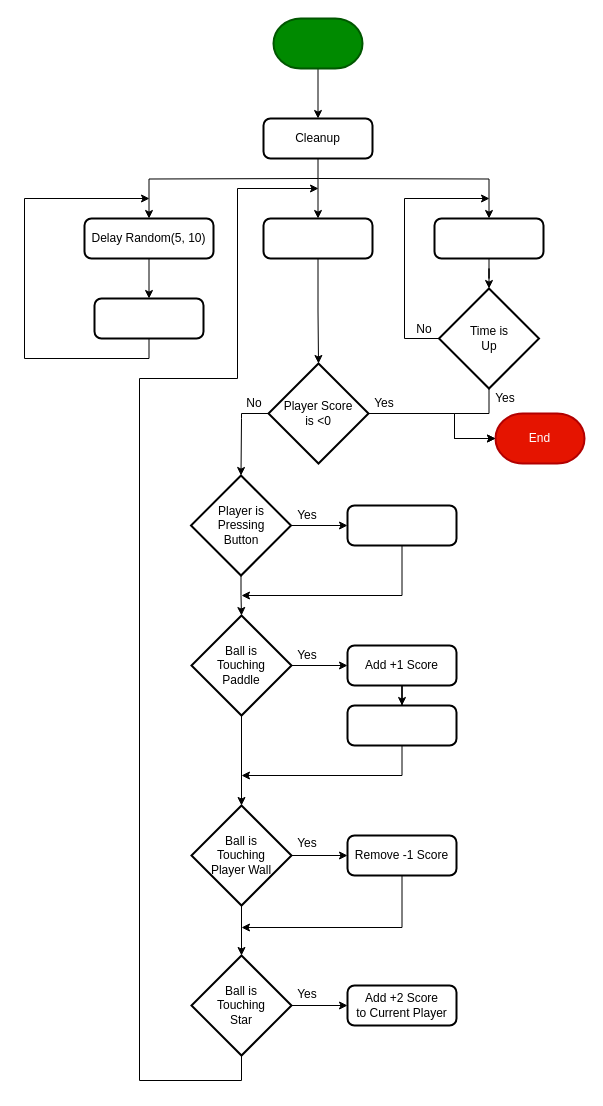
This 603x1106 diagram has some shape labels left out. Each missing label, with the box of its shape:
Count Timer: (433, 217, 544, 259)
Move Ball and Bounce on Edge: (262, 217, 373, 259)
Move Paddle: (346, 504, 457, 546)
Set Ball to Player: (346, 704, 457, 746)
Spawn Clone of Star: (93, 297, 204, 339)
Start: (272, 17, 363, 69)
